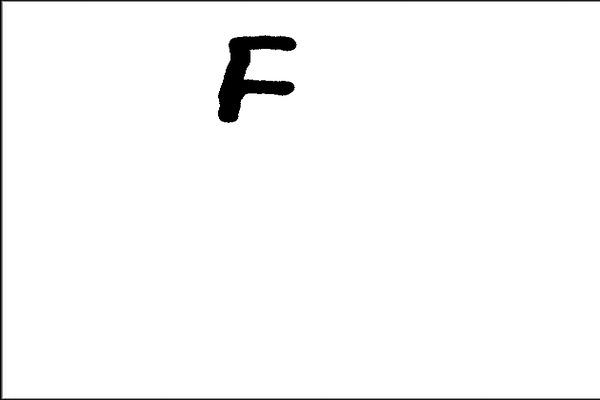F: (213, 31, 299, 126)
